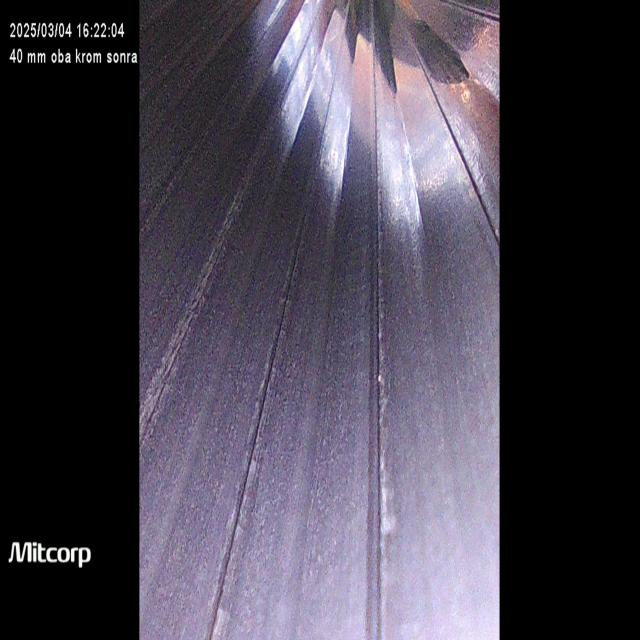hata_8.1: (188, 174, 329, 640), (136, 114, 288, 480), (357, 138, 394, 640)
